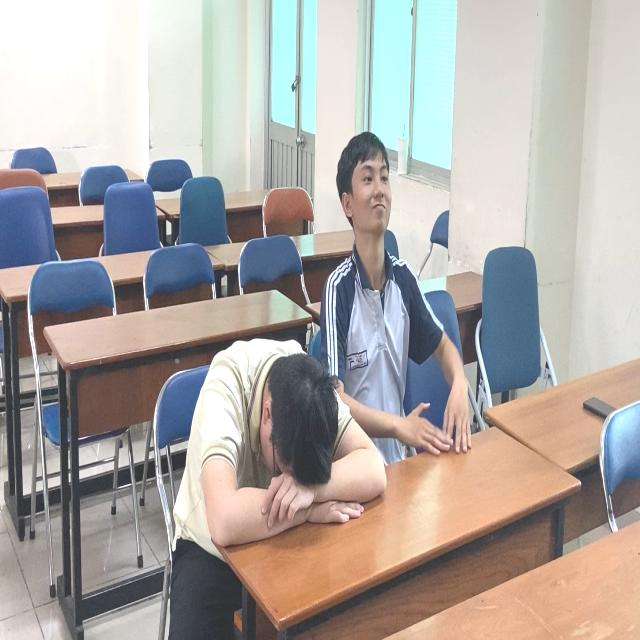sleep: (178, 334, 389, 554)
